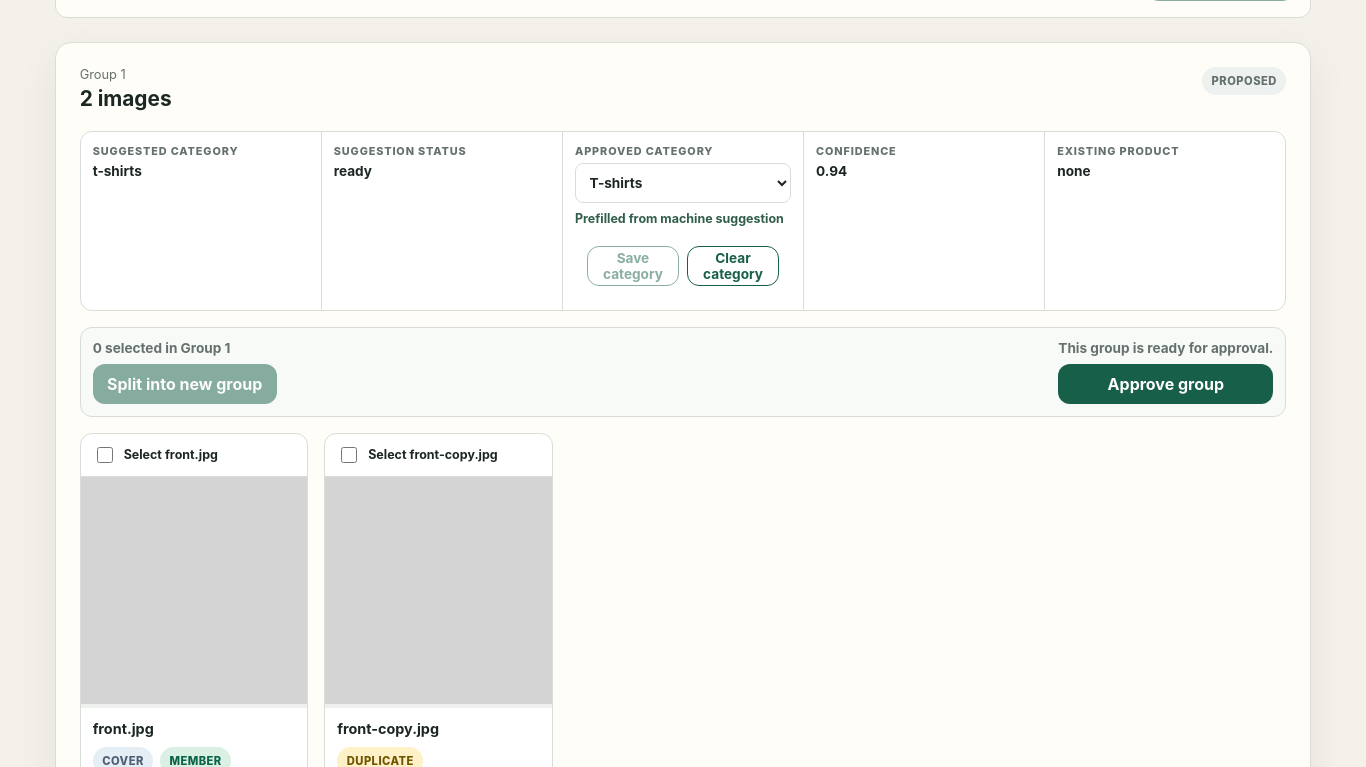
Test: ReviewBatch › approves a machine-prefilled category without saving it first
The image size is (1366, 767).
(page scrolled)
Expected: the text "Prefilled from machine suggestion" is shown, left=575, top=211, right=791, bottom=226
Expected: the dropdown named "Approved category for Group 1" shows "T-shirts", left=575, top=163, right=791, bottom=203
What coordinates should you click on to do the following:
click the button "Approve group"
I would click on:
 (1166, 384)
Its box is left=1058, top=364, right=1273, bottom=404.
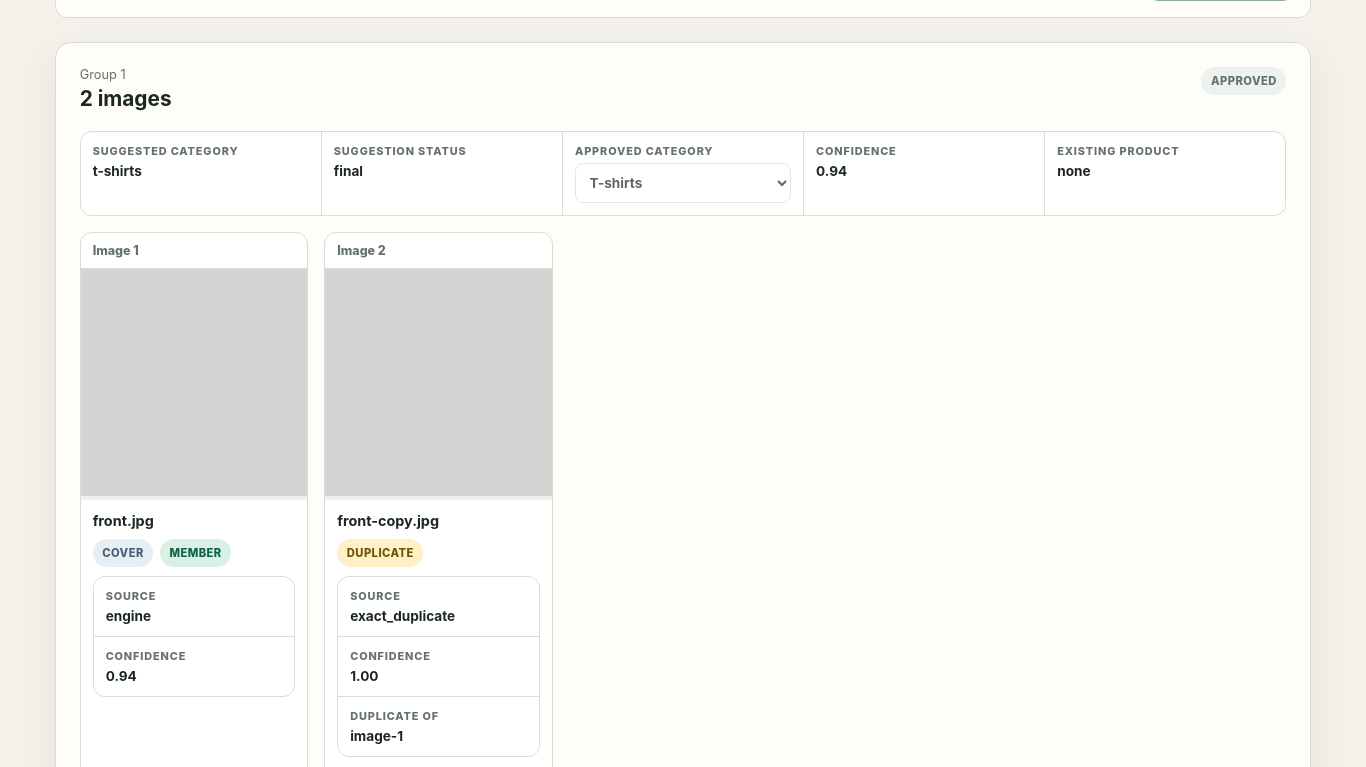
Expected: the text "Prefilled from machine suggestion" is gone
